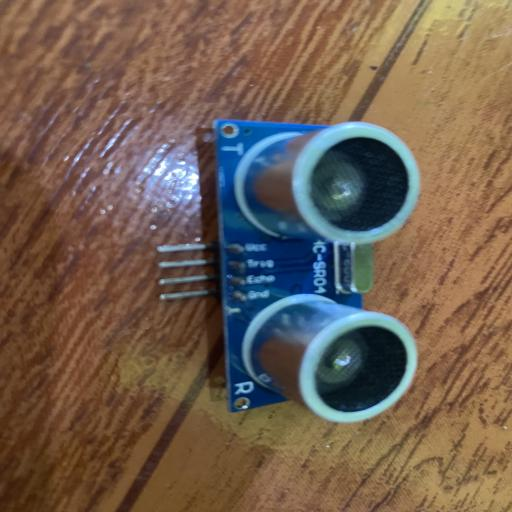Ultrasonic Sensor: (157, 118, 421, 424)
